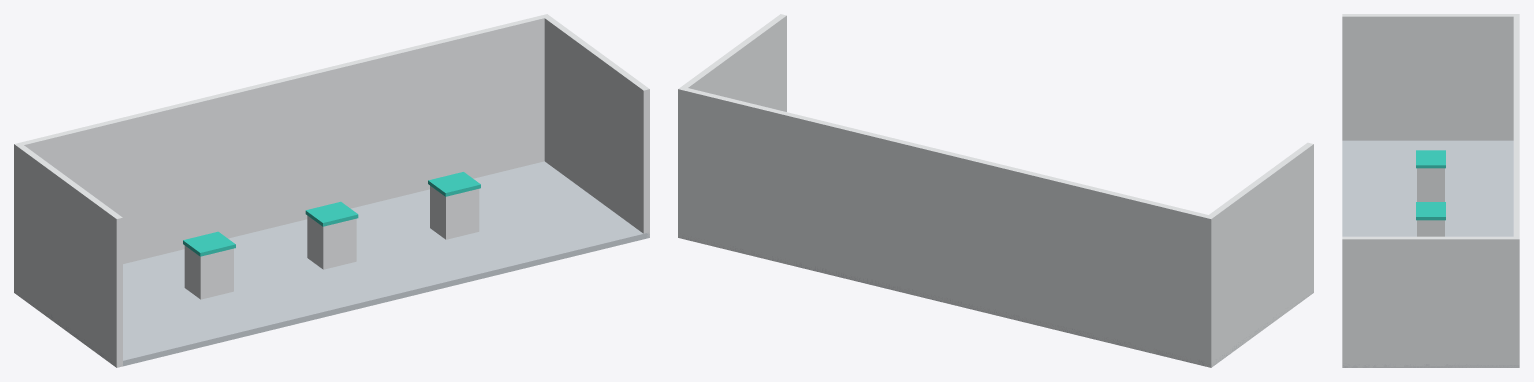
3 renders of one model, left to right at view 1: azimuth 30°, elevation 25°; view 2: azimuth 150°, elevation 25°; view 3: azimuth 270°, elevation 25°, orthographic. The views are drawn at different scales.
Visible parts, largest first — view 1: Exhibition Booth Concept; view 2: Exhibition Booth Concept; view 3: Exhibition Booth Concept.
Part boxes in pixels (<box>): Exhibition Booth Concept: <box>14,14,649,367</box>; Exhibition Booth Concept: <box>678,14,1313,367</box>; Exhibition Booth Concept: <box>1342,14,1519,367</box>.
Size of the model in its own units: 12 by 3.2 by 4.
